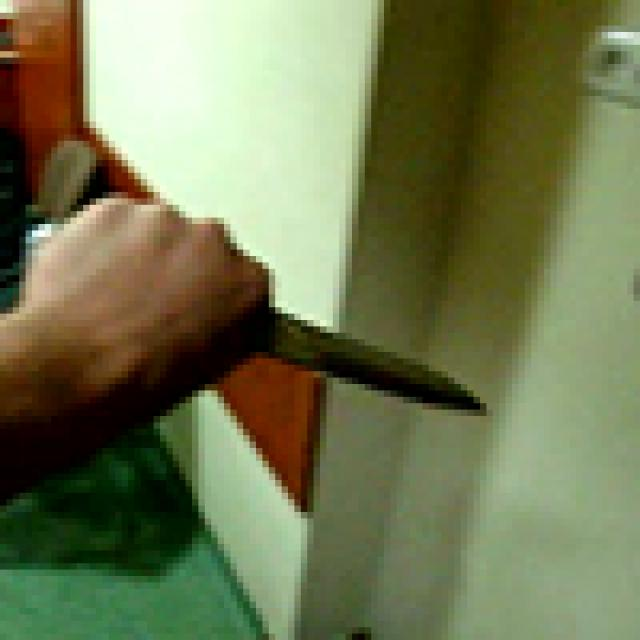Knife: (224, 294, 493, 429)
